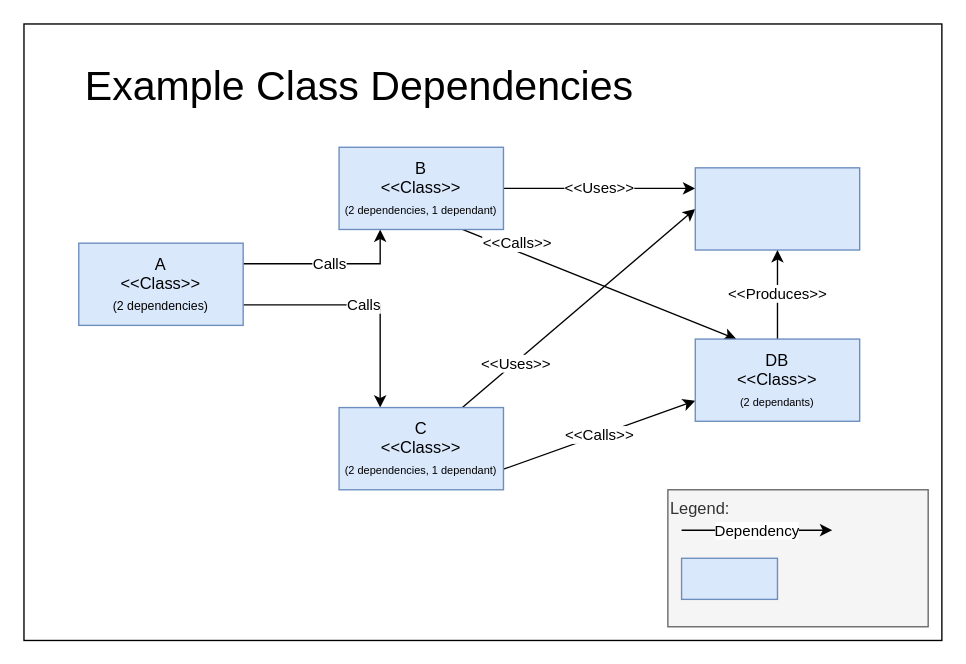
Some shapes in this 966 by 664 pixel diagram are drawn without their labels. The centre of each missing label's shape, as x and y in pixels:
"Class" goes at point (728, 578).
"DTO <<Class>> (3 dependants)" goes at point (777, 208).
